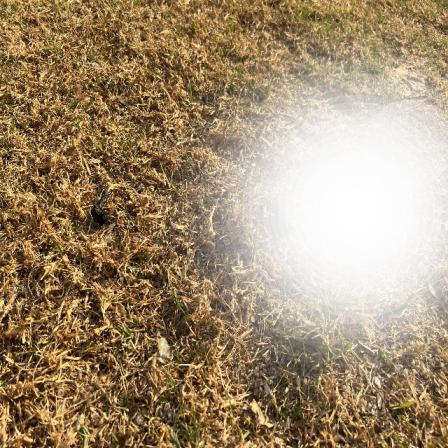dog-poop: (86, 186, 117, 232)
